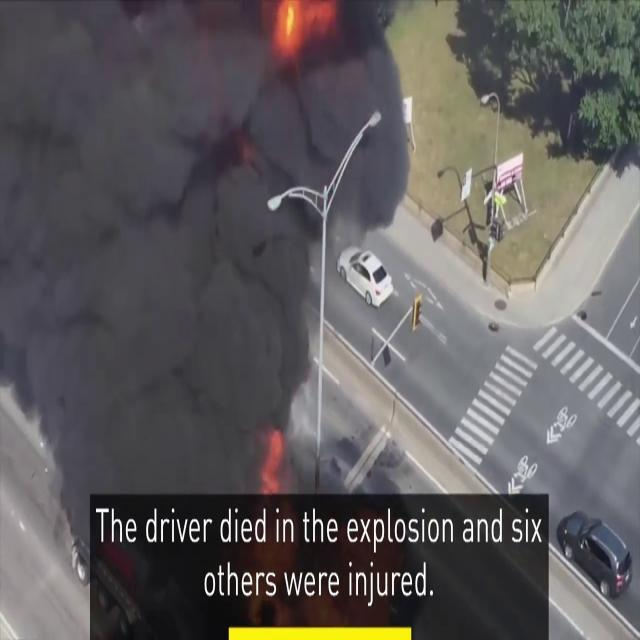Smoke: (0, 1, 407, 482)
